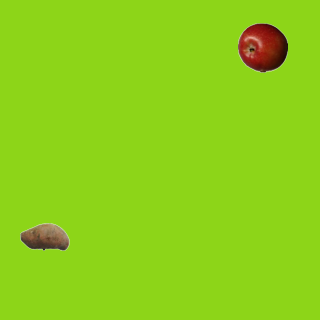Apple Braeburn: (237, 22, 287, 72)
Potato Sweet: (19, 211, 69, 261)
